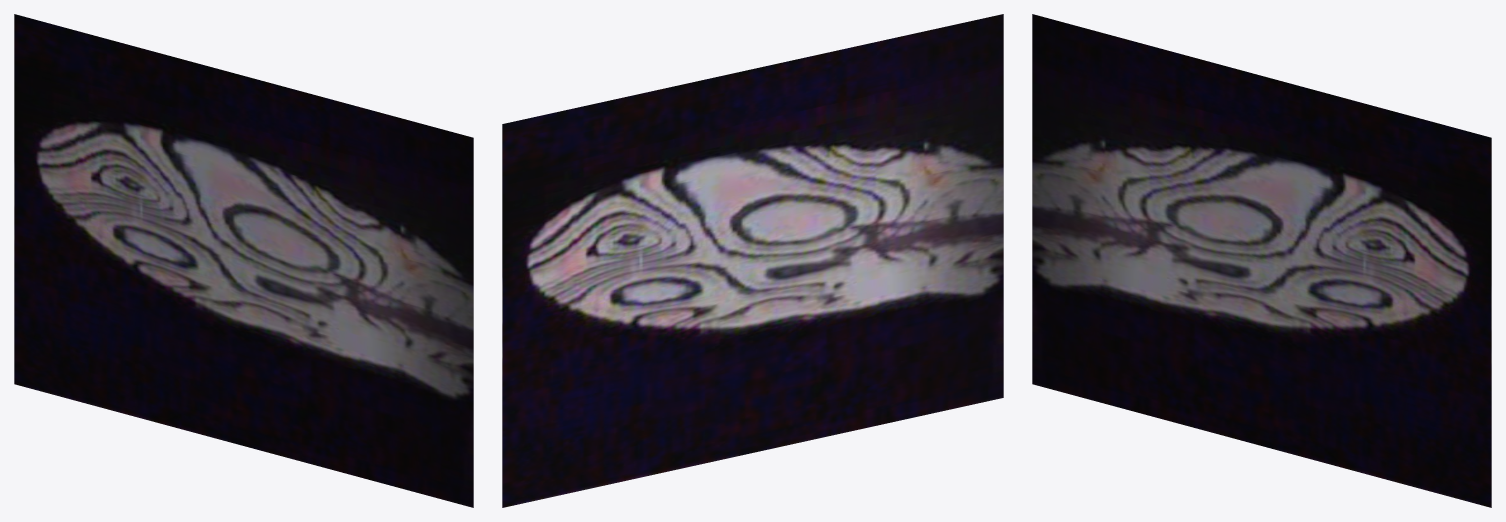
The picture shows the model from 3 angles, left to right: view 1: azimuth 90°, elevation 25°; view 2: azimuth 150°, elevation 25°; view 3: azimuth 270°, elevation 25°; orthographic projection. The views are drawn at different scales.
Visible parts, largest first — view 1: Plane.010; view 2: Plane.010; view 3: Plane.010.
Part boxes in pixels (x1,y1,x2,y2): Plane.010: (14,14,473,507); Plane.010: (502,14,1003,507); Plane.010: (1032,14,1491,507).
Bounding box in the file's own units: 2.15 × 3 × 3.37.
1 material, 1 textured.
